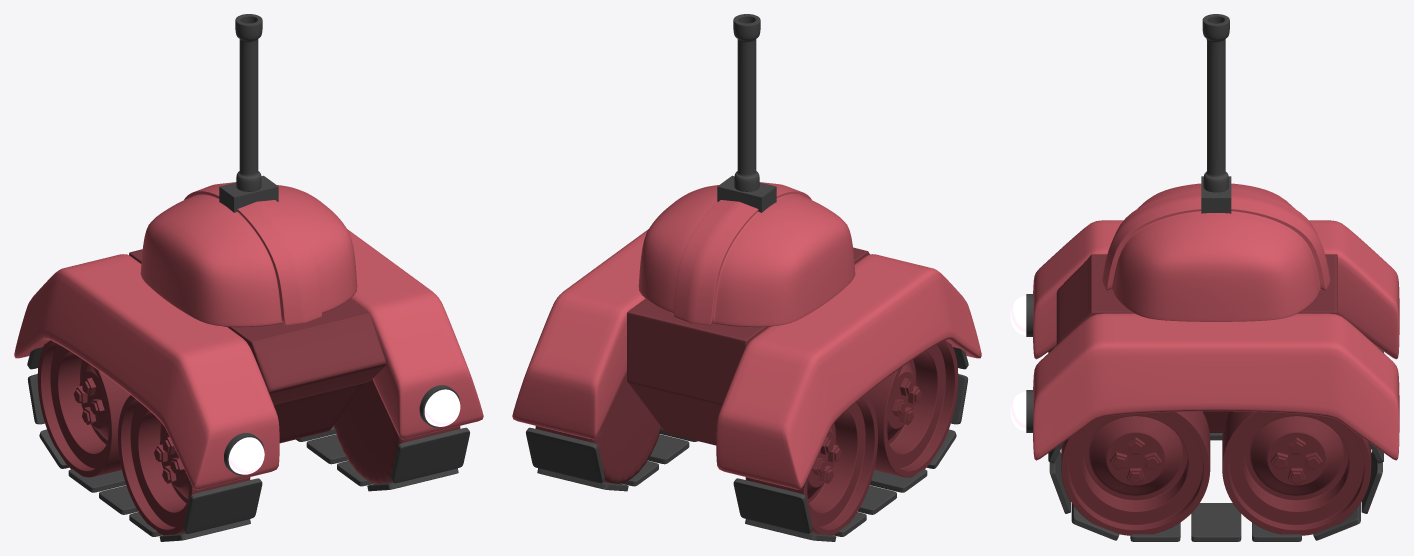
File: Tank.fbx
3 renders of one model, left to right at view 1: azimuth 30°, elevation 25°; view 2: azimuth 150°, elevation 25°; view 3: azimuth 270°, elevation 25°, orthographic.
Visible parts, largest first — view 1: TankSides, TankCockpit, TankBody, WheelsFront, Tracks, WheelsRear, Gun, Lights, LightsRim; view 2: TankSides, TankCockpit, TankBody, WheelsRear, Tracks, WheelsFront, Gun; view 3: TankSides, TankCockpit, WheelsFront, WheelsRear, Tracks, TankBody, Gun, Lights, LightsRim.
Boxes of the visible parts, x1=… form: TankSides: x1=14, y1=229, x2=483, y2=489; TankCockpit: x1=140, y1=182, x2=357, y2=327; TankBody: x1=129, y1=249, x2=386, y2=443; WheelsFront: x1=118, y1=379, x2=460, y2=535; Tracks: x1=27, y1=347, x2=469, y2=541; WheelsRear: x1=37, y1=340, x2=130, y2=477; Gun: x1=219, y1=14, x2=278, y2=212; Lights: x1=228, y1=389, x2=460, y2=474; LightsRim: x1=224, y1=385, x2=460, y2=475; TankSides: x1=512, y1=229, x2=981, y2=489; TankCockpit: x1=638, y1=182, x2=855, y2=327; TankBody: x1=627, y1=247, x2=869, y2=445; WheelsRear: x1=535, y1=373, x2=877, y2=535; Tracks: x1=526, y1=347, x2=968, y2=541; WheelsFront: x1=865, y1=340, x2=958, y2=477; Gun: x1=717, y1=14, x2=776, y2=212; TankSides: x1=1033, y1=220, x2=1399, y2=460; TankCockpit: x1=1102, y1=183, x2=1330, y2=321; WheelsFront: x1=1061, y1=411, x2=1210, y2=535; WheelsRear: x1=1222, y1=411, x2=1371, y2=535; Tracks: x1=1048, y1=347, x2=1383, y2=541; TankBody: x1=1056, y1=254, x2=1337, y2=432; Gun: x1=1201, y1=14, x2=1231, y2=213; Lights: x1=1010, y1=296, x2=1026, y2=431; LightsRim: x1=1026, y1=294, x2=1033, y2=432.
Size of the model in its own units: 636 by 949 by 736.
